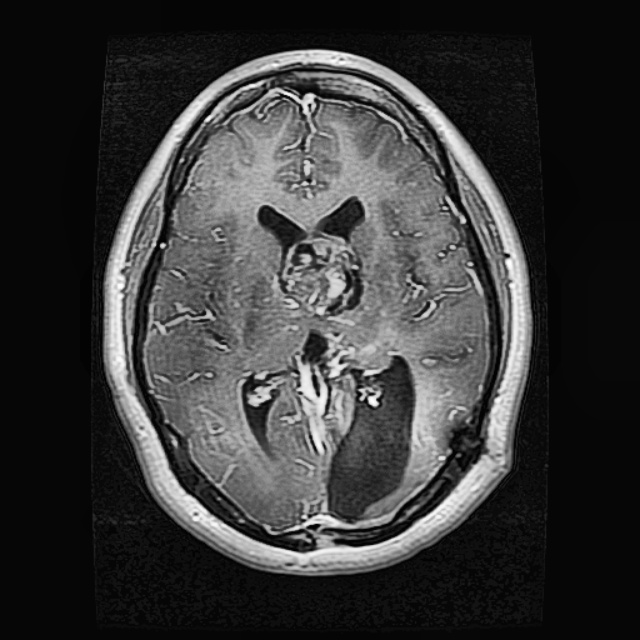Meningioma: (239, 330, 415, 515)
